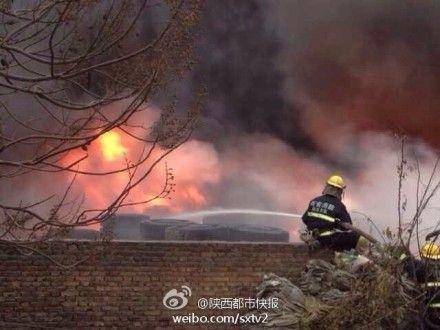fire: (94, 128, 128, 161)
